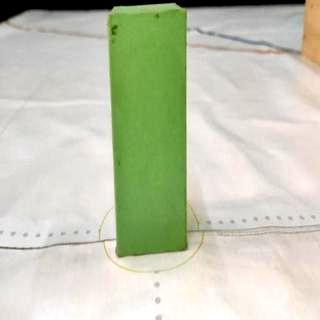greenbox: (108, 4, 188, 262)
